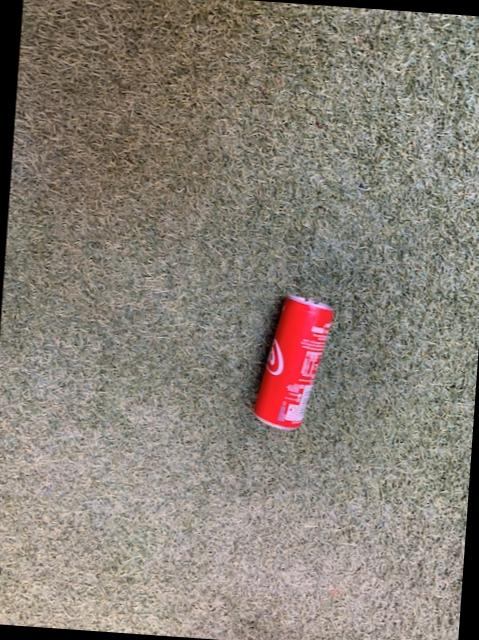metal: (252, 297, 331, 430)
